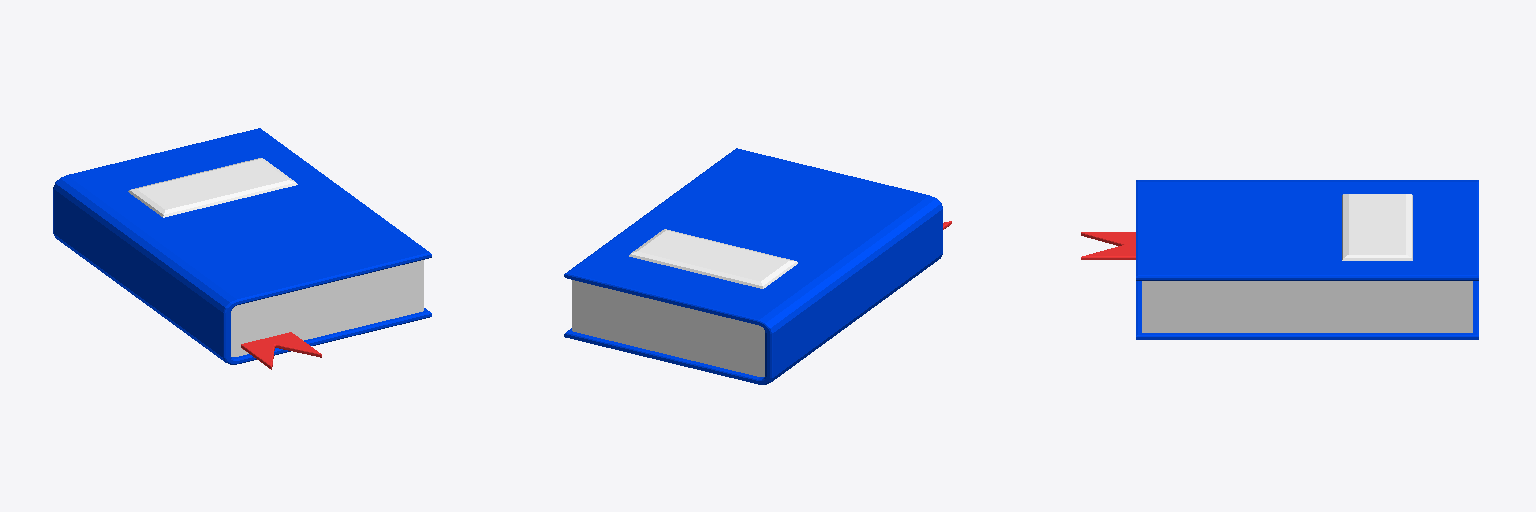
The model's file is book.obj.
The picture shows the model from 3 angles: view 1: azimuth 30°, elevation 25°; view 2: azimuth 150°, elevation 25°; view 3: azimuth 270°, elevation 25°; orthographic projection.
Parts seen in each view (by area): view 1: pCube4; view 2: pCube4; view 3: pCube4.
Boxes of the visible parts, <box> form: pCube4: <box>53,128,431,369</box>; pCube4: <box>564,148,951,384</box>; pCube4: <box>1081,180,1478,339</box>.
Size of the model in its own units: 4.06 by 1.28 by 6.75.